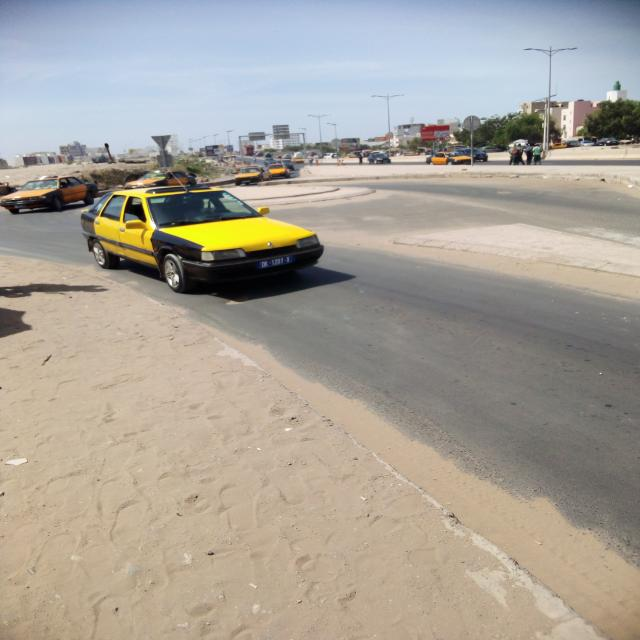particulier: (369, 152, 393, 166), (474, 150, 489, 162), (463, 150, 471, 156)
taxi: (83, 187, 324, 294), (1, 176, 99, 215), (126, 171, 196, 190), (234, 167, 273, 186), (428, 154, 473, 166), (269, 165, 291, 180)
